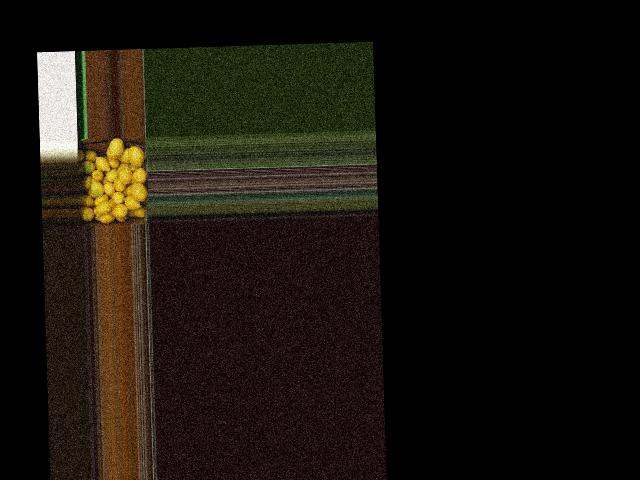lemon: (104, 170, 117, 181)
